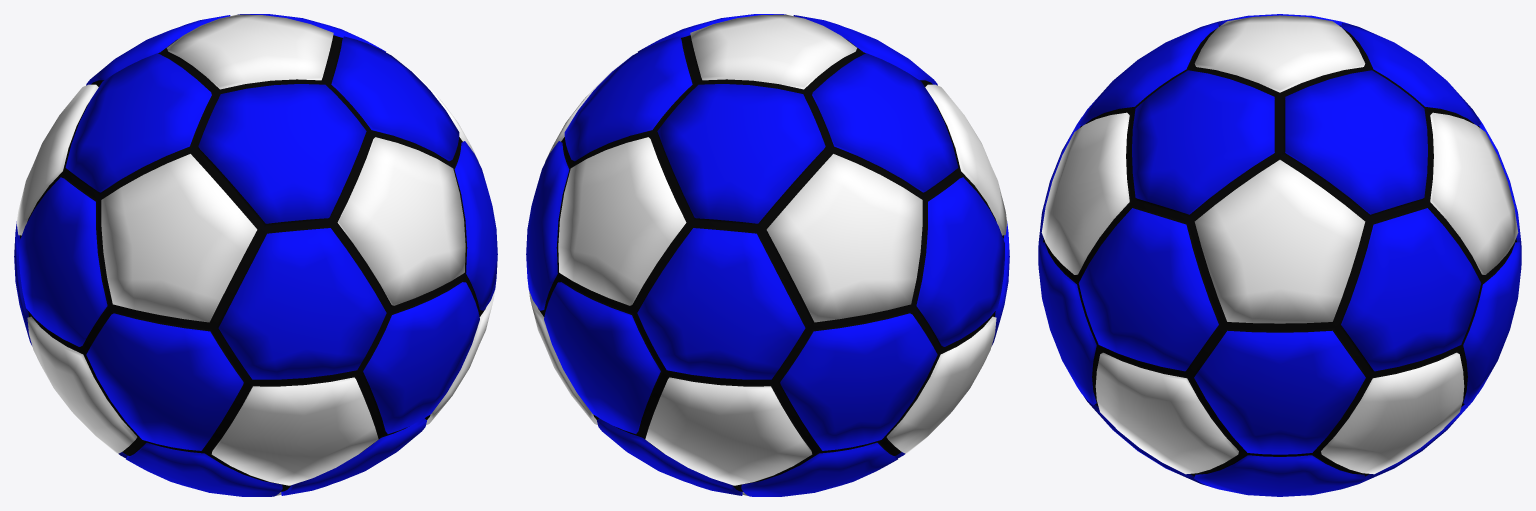
Rendered from uploads_files_3452570_football.fbx.
The picture shows the model from 3 angles, left to right: view 1: azimuth 30°, elevation 25°; view 2: azimuth 150°, elevation 25°; view 3: azimuth 270°, elevation 25°; orthographic projection.
Parts seen in each view (by area): view 1: Icosphere; view 2: Icosphere; view 3: Icosphere.
Part boxes in pixels (<box>): Icosphere: <box>14,14,497,496</box>; Icosphere: <box>526,14,1009,496</box>; Icosphere: <box>1038,14,1521,496</box>.
Size of the model in its own units: 697 by 697 by 697.
